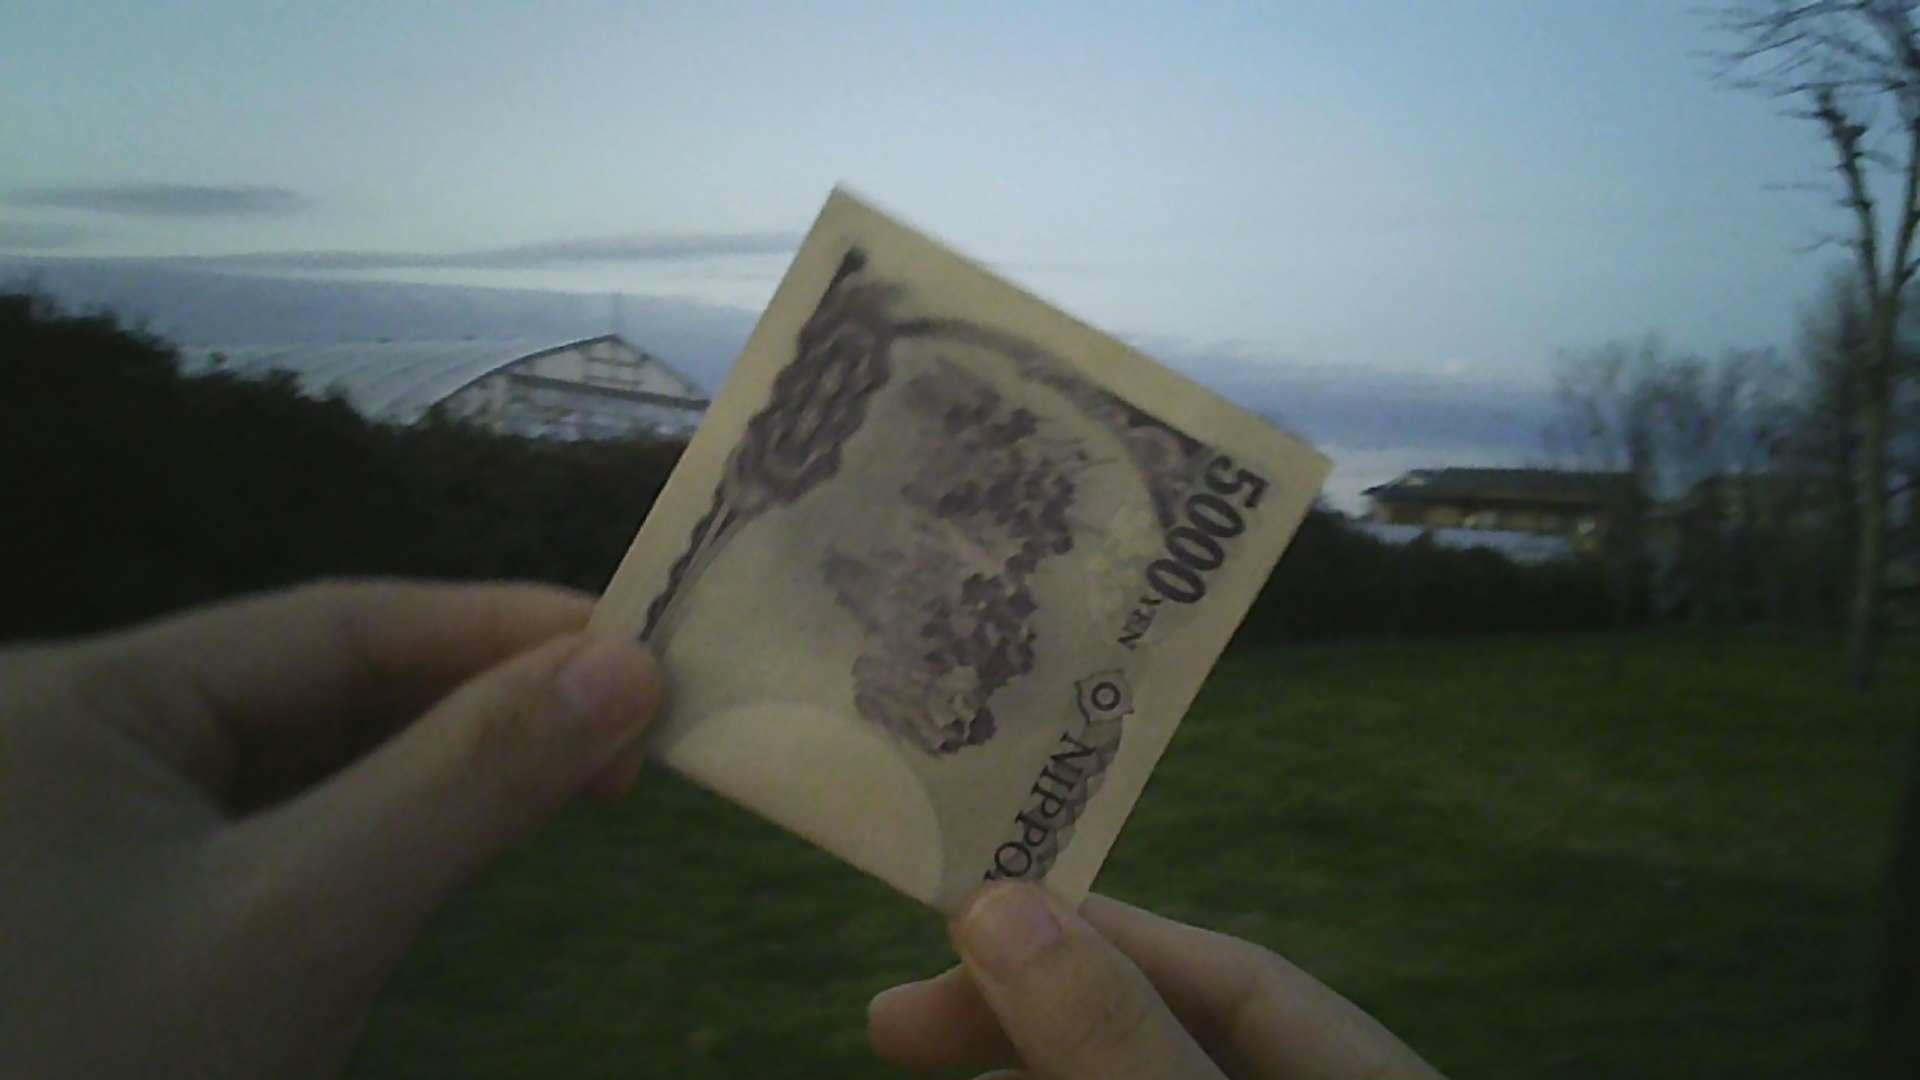5,000 Yen: (547, 171, 1365, 952)
